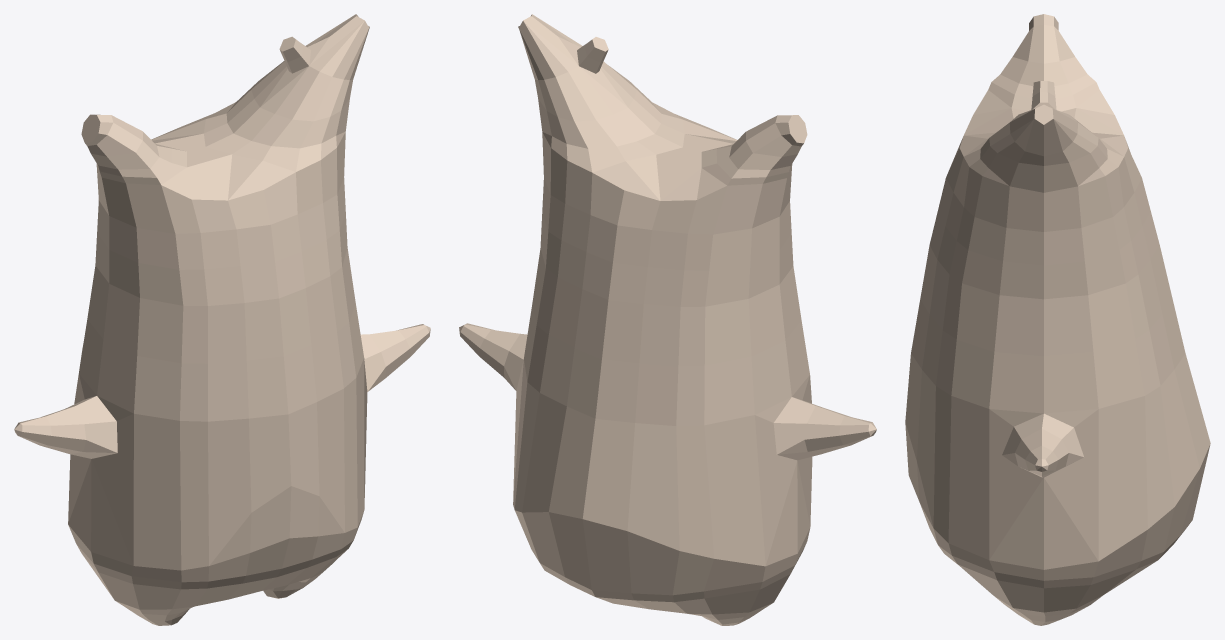
File: frame_0042.obj
The picture shows the model from 3 angles, left to right: view 1: azimuth 30°, elevation 25°; view 2: azimuth 150°, elevation 25°; view 3: azimuth 270°, elevation 25°; orthographic projection.
Visible parts, largest first — view 1: korok; view 2: korok; view 3: korok.
Part boxes in pixels (left/top/right/bottom): korok: left=14, top=14, right=430, bottom=625; korok: left=459, top=14, right=876, bottom=625; korok: left=905, top=14, right=1210, bottom=625.
Size of the model in its own units: 1.67 by 2.15 by 1.07.
